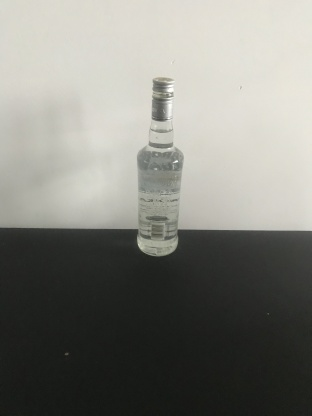nakretka: (150, 74, 175, 122)
